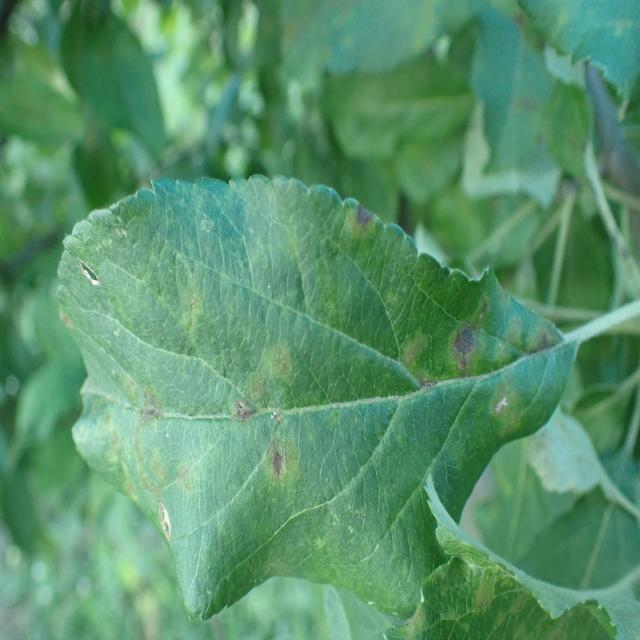scab: (53, 173, 573, 599)
